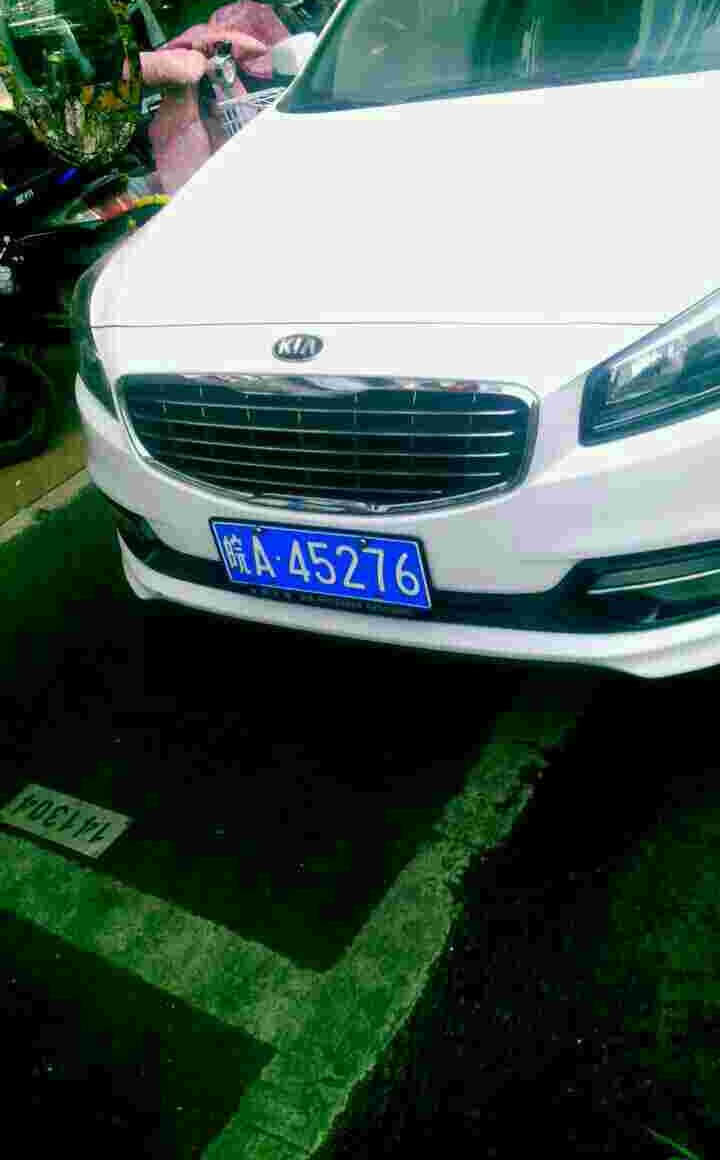license_plate: (216, 519, 430, 615)
